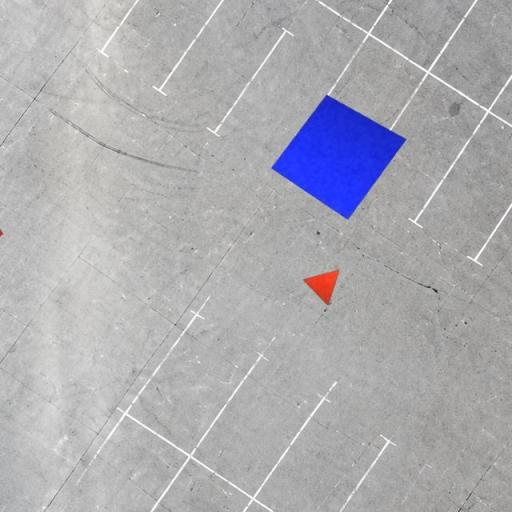BLUE_SQUARE: (271, 94, 407, 221)
